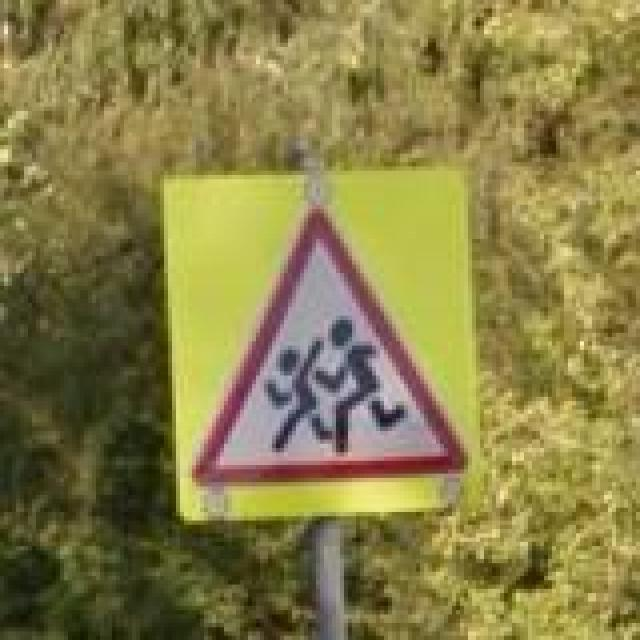Przejscie dla pieszych: (192, 209, 472, 491)
